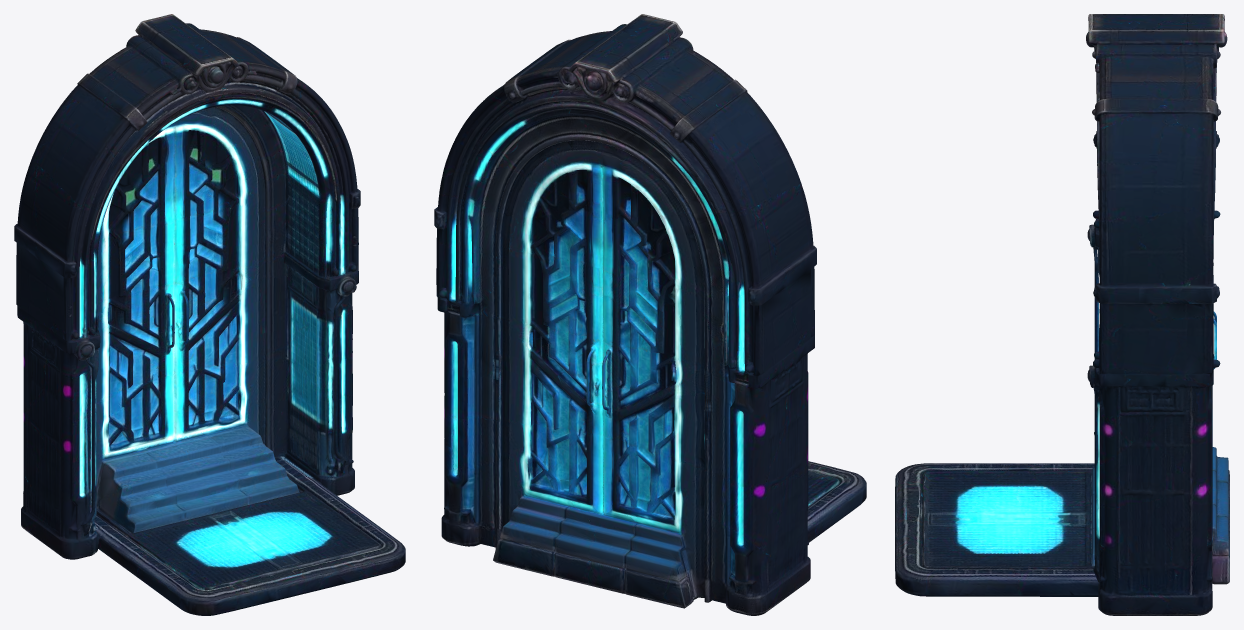
The model's file is portal_arch_mobile.glb.
The picture shows the model from 3 angles, left to right: view 1: azimuth 30°, elevation 25°; view 2: azimuth 150°, elevation 25°; view 3: azimuth 270°, elevation 25°; orthographic projection. The views are drawn at different scales.
Bounding box in the file's own units: 1.26 × 1.9 × 1.12.
Materials: 1 (1 with a texture image).
